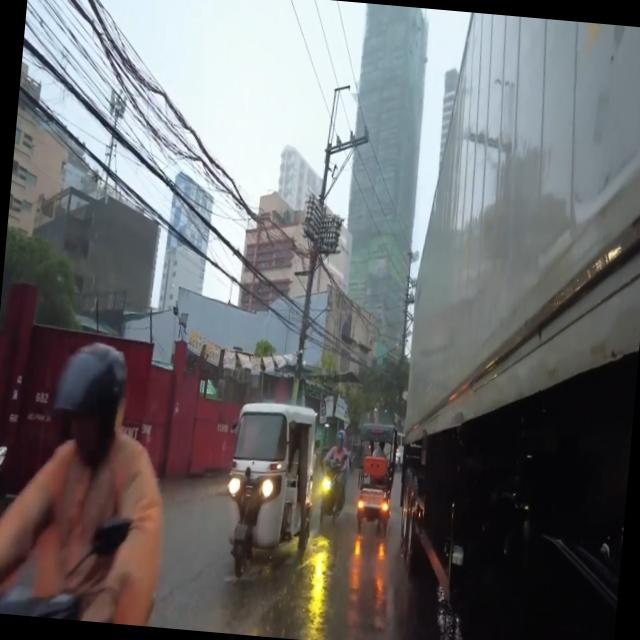half: (50, 340, 129, 443)
